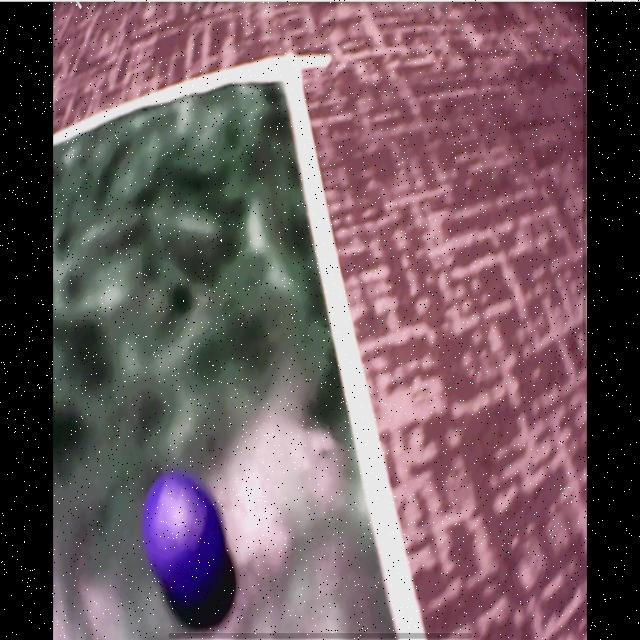ball: (142, 472, 225, 594)
